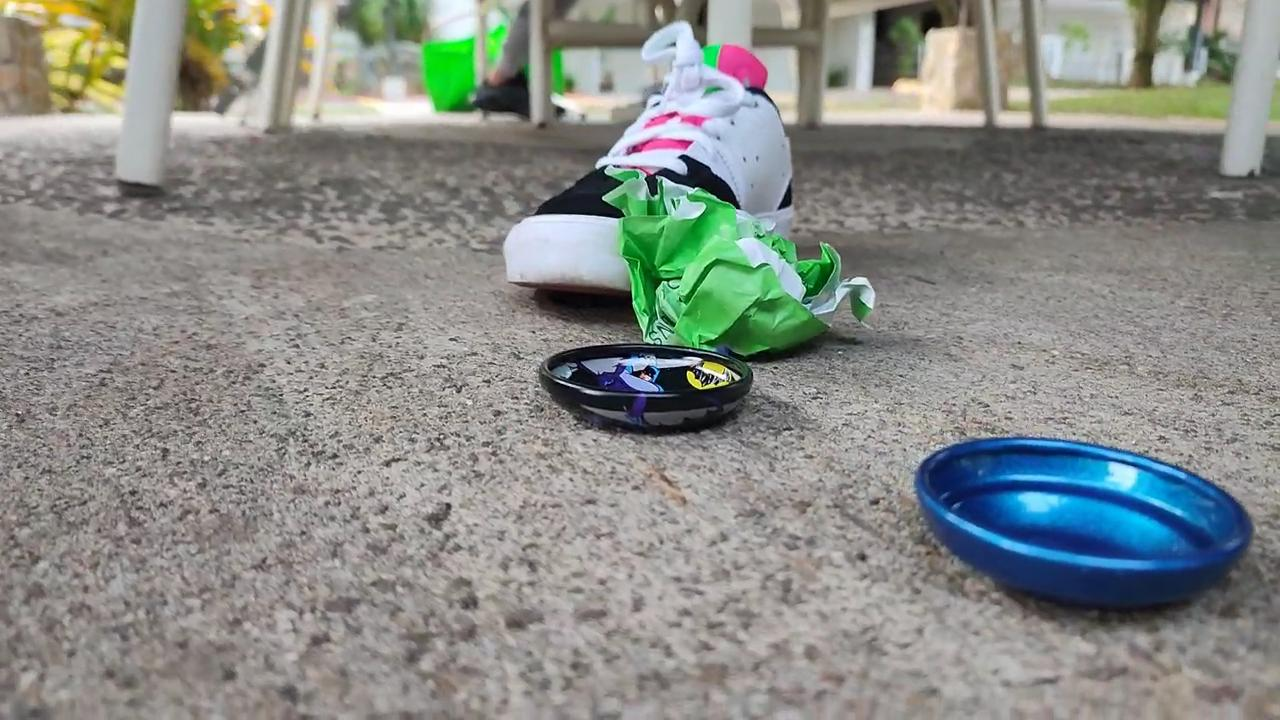paper: (597, 170, 896, 348)
